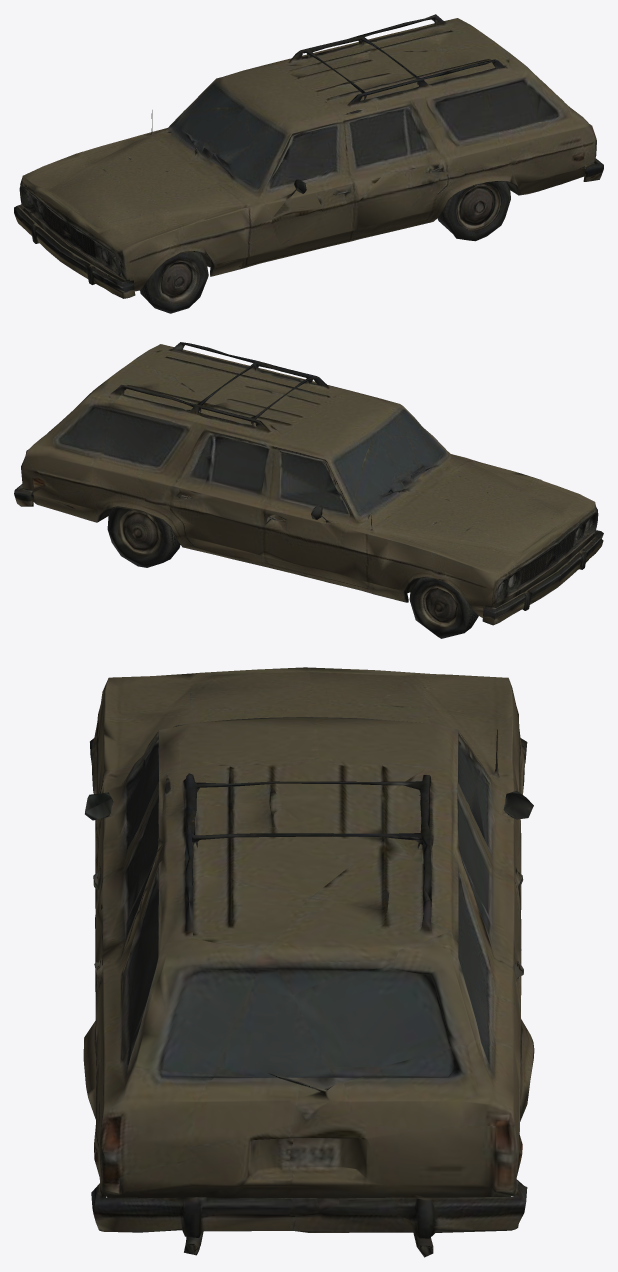
Rendered from car_wagon_light_q4.glb.
3 views of the same model, one above another, from view 1: azimuth 30°, elevation 25°; view 2: azimuth 150°, elevation 25°; view 3: azimuth 270°, elevation 25° (orthographic). The views are drawn at different scales.
Bounding box in the file's own units: 4.78 × 1.49 × 1.88.
1 material, 1 textured.
